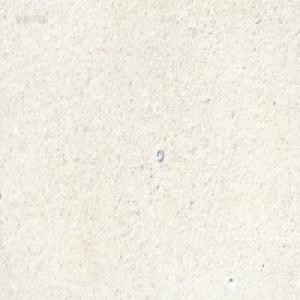Washer: (156, 147, 163, 162)
